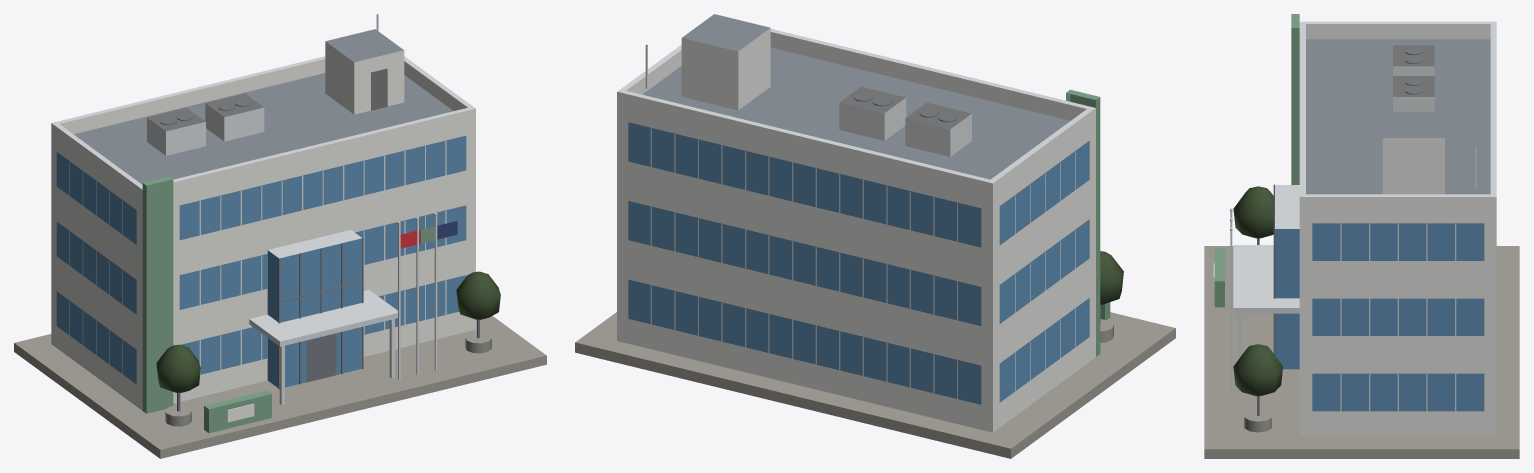
The model's file is mashup-admin-top-prebuilt_close.fbx.
3 views of the same model, side by side, from view 1: azimuth 30°, elevation 25°; view 2: azimuth 150°, elevation 25°; view 3: azimuth 270°, elevation 25° (orthographic). The views are drawn at different scales.
Parts seen in each view (by area): view 1: a1057/0/mashup-admin-top-prebuilt_close; view 2: a1057/0/mashup-admin-top-prebuilt_close; view 3: a1057/0/mashup-admin-top-prebuilt_close.
Part boxes in pixels (box(x1,y1,x2,y2)): a1057/0/mashup-admin-top-prebuilt_close: box(14, 14, 546, 458); a1057/0/mashup-admin-top-prebuilt_close: box(575, 14, 1175, 458); a1057/0/mashup-admin-top-prebuilt_close: box(1204, 14, 1519, 458).
Bounding box in the file's own units: 23.2 × 15.4 × 15.2.
